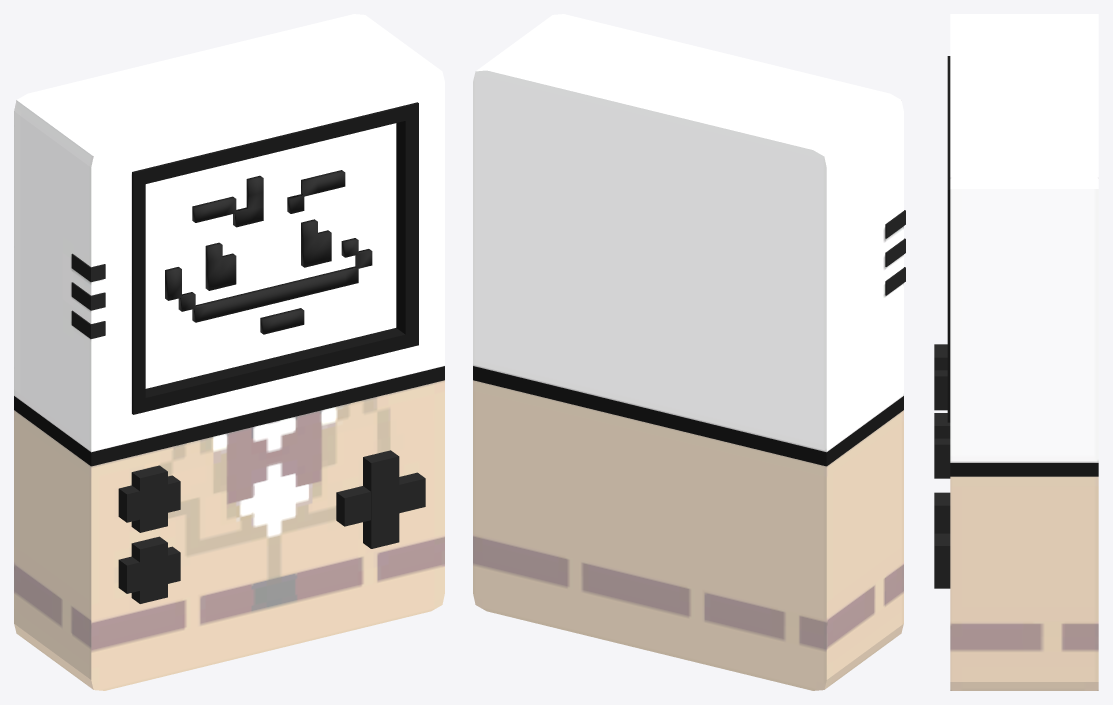
Rendered from MetaBoy_3173_tex2_old.glb.
3 views of the same model, side by side, from view 1: azimuth 30°, elevation 25°; view 2: azimuth 150°, elevation 25°; view 3: azimuth 270°, elevation 25° (orthographic). The views are drawn at different scales.
Parts seen in each view (by area): view 1: metaboy_default_detail_rounded; view 2: metaboy_default_detail_rounded; view 3: metaboy_default_detail_rounded.
Part boxes in pixels (x1=…): metaboy_default_detail_rounded: x1=14, y1=14, x2=444, y2=690; metaboy_default_detail_rounded: x1=473, y1=14, x2=905, y2=690; metaboy_default_detail_rounded: x1=934, y1=14, x2=1098, y2=690.
Bounding box in the file's own units: 2.61 × 3.8 × 1.09.
5 materials, 1 textured.
